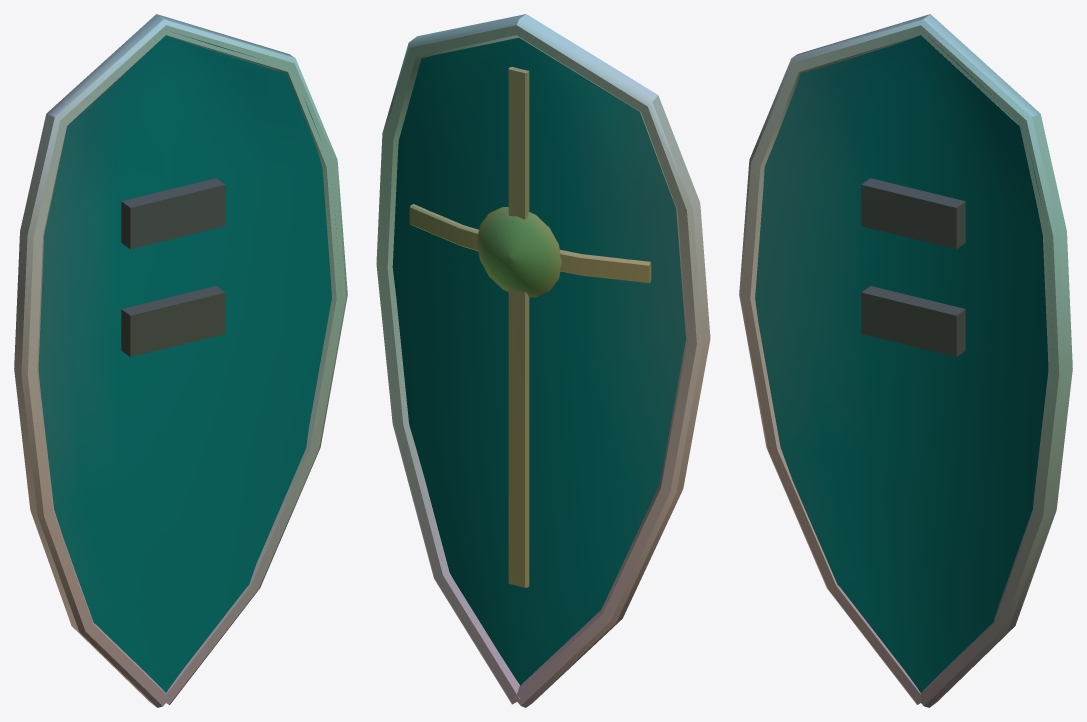
Rendered from shield_kite.glb.
3 renders of one model, left to right at view 1: azimuth 30°, elevation 25°; view 2: azimuth 150°, elevation 25°; view 3: azimuth 330°, elevation 25°, orthographic.
Visible parts, largest first — view 1: shield, rim, enarmes; view 2: shield, rim, cross_v, boss_sun, cross_h; view 3: shield, rim, enarmes.
Boxes of the visible parts, left/top/right/bottom form: shield: left=38, top=32, right=340, bottom=692; rim: left=14, top=14, right=347, bottom=707; enarmes: left=121, top=178, right=225, bottom=356; shield: left=392, top=37, right=685, bottom=685; rim: left=376, top=14, right=710, bottom=707; cross_v: left=508, top=66, right=529, bottom=587; boss_sun: left=476, top=207, right=561, bottom=297; cross_h: left=409, top=204, right=651, bottom=283; shield: left=755, top=35, right=1053, bottom=692; rim: left=739, top=14, right=1072, bottom=707; enarmes: left=861, top=178, right=965, bottom=356.
Size of the model in its own units: 0.412 by 0.8287 by 0.0836.
